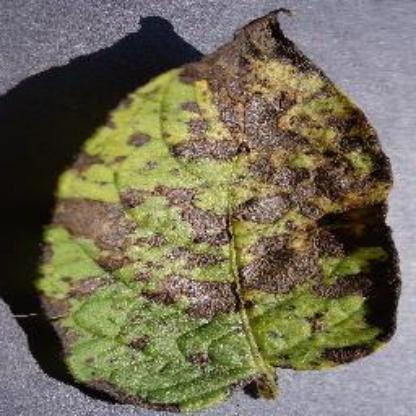Early-Blight: (38, 6, 412, 412)
